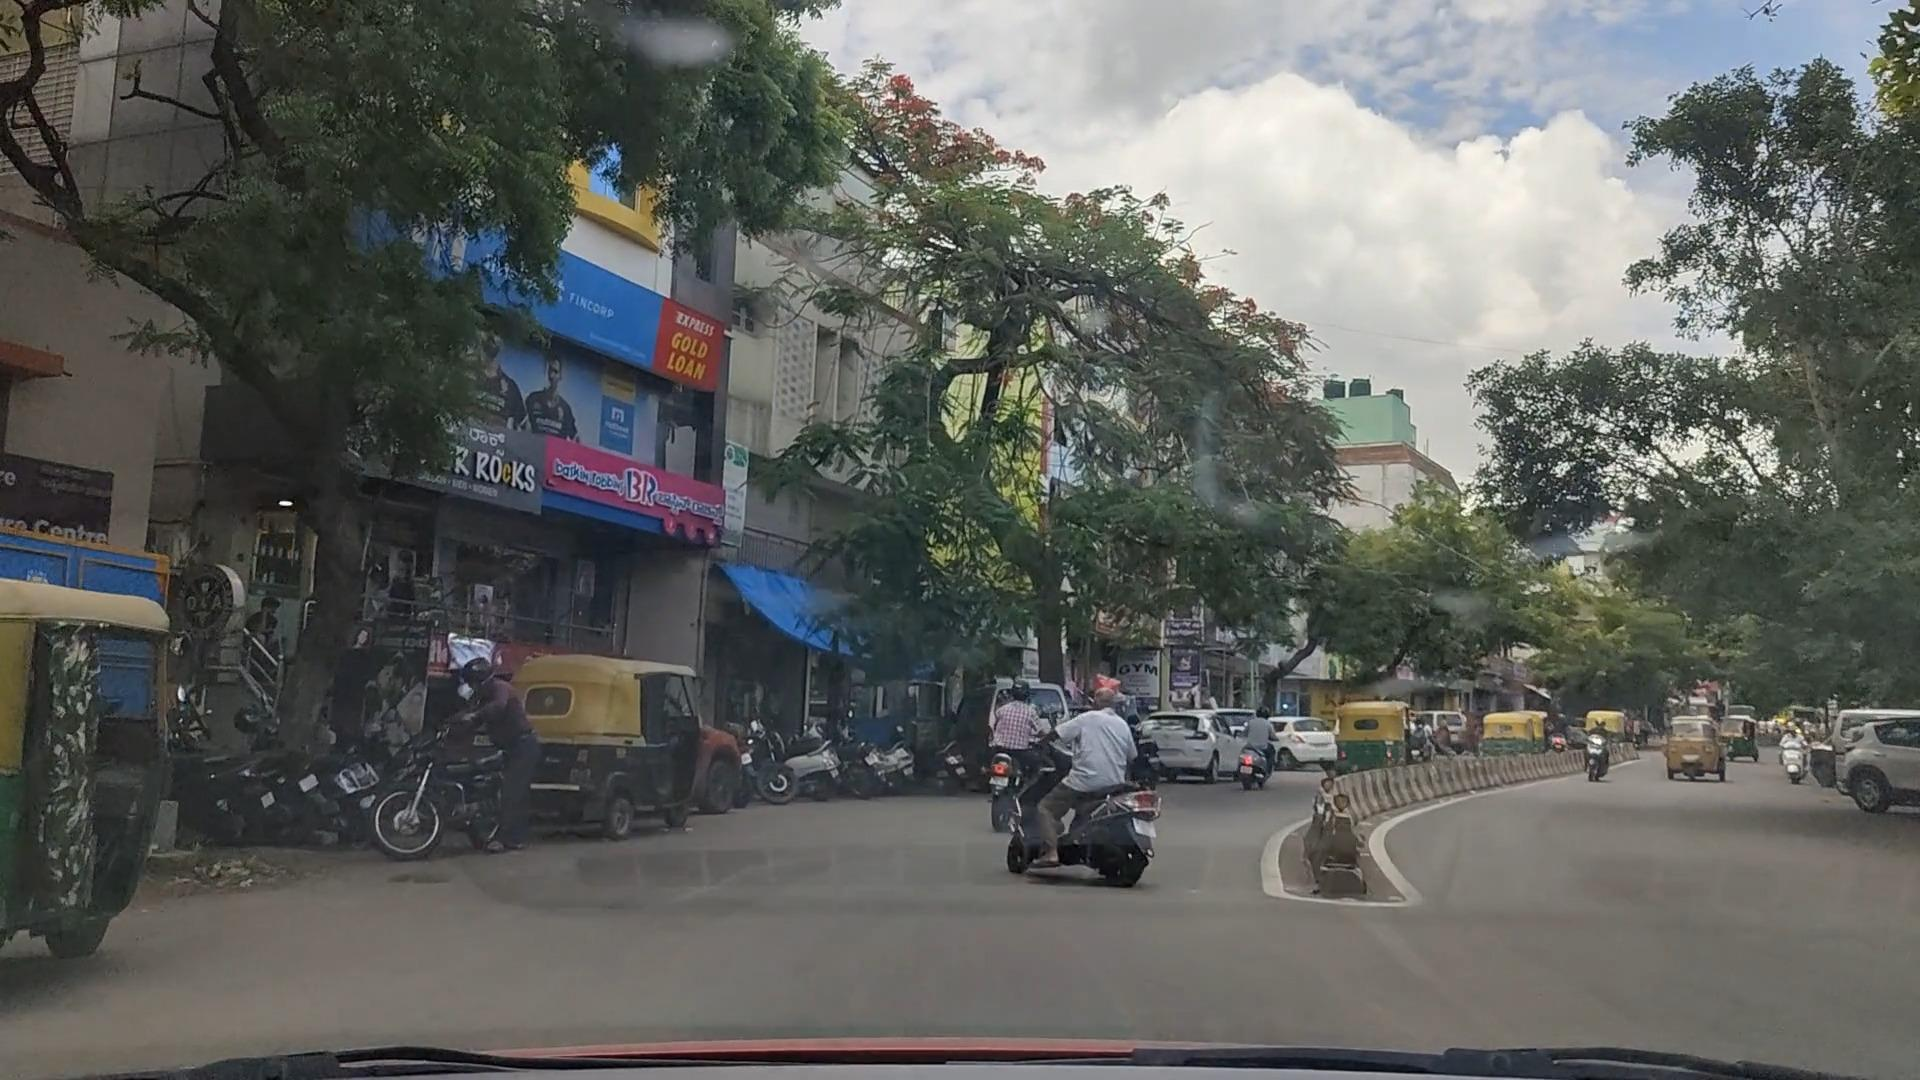LMV: (5, 595, 157, 936), (956, 698, 1181, 892), (423, 646, 575, 898), (535, 656, 698, 814)
